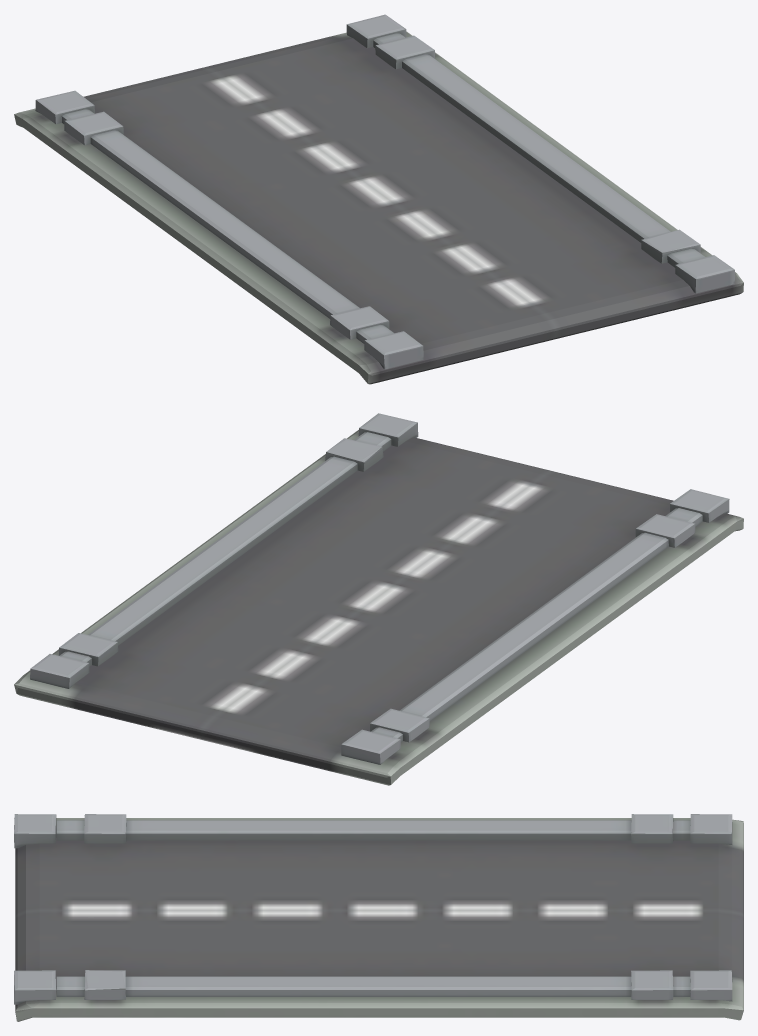
The model's file is SM_shiqiao_3.glb.
The picture shows the model from 3 angles, top to bottom: view 1: azimuth 30°, elevation 25°; view 2: azimuth 150°, elevation 25°; view 3: azimuth 270°, elevation 25°; orthographic projection. The views are drawn at different scales.
Parts seen in each view (by area): view 1: SM_shiqiao_3; view 2: SM_shiqiao_3; view 3: SM_shiqiao_3.
Part boxes in pixels (x1,y1,x2,y2): SM_shiqiao_3: (14,14,743,384); SM_shiqiao_3: (14,413,743,785); SM_shiqiao_3: (14,814,743,1021).
Bounding box in the file's own units: 11.21 × 0.8113 × 18.23.
1 material, 1 textured.
